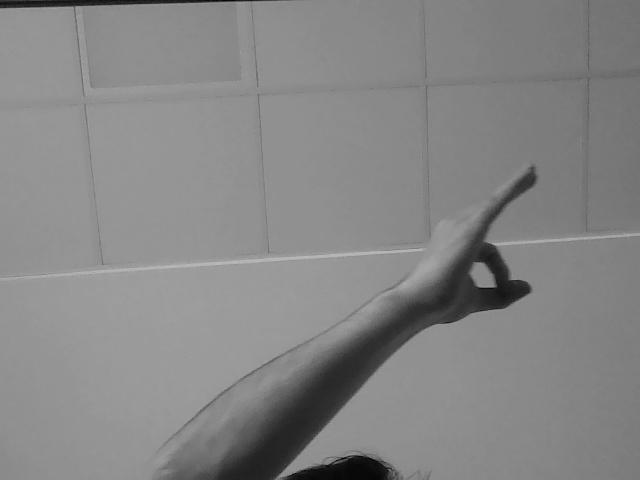OK: (410, 166, 560, 320)
